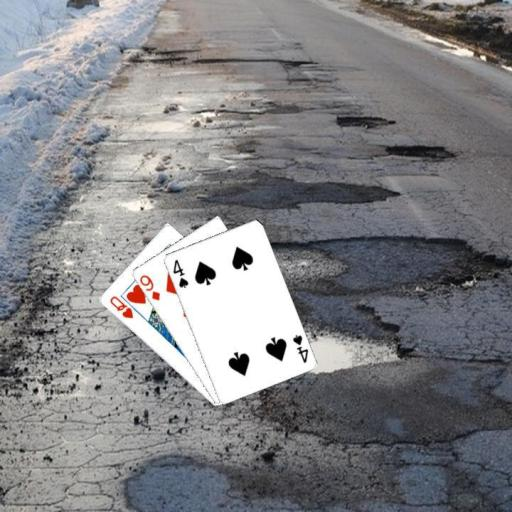4S: (169, 256, 190, 289), (290, 331, 310, 364)
9D: (136, 272, 161, 302)
QH: (106, 293, 134, 320)
